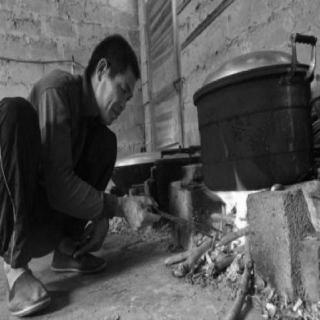Fire: (202, 174, 266, 254)
